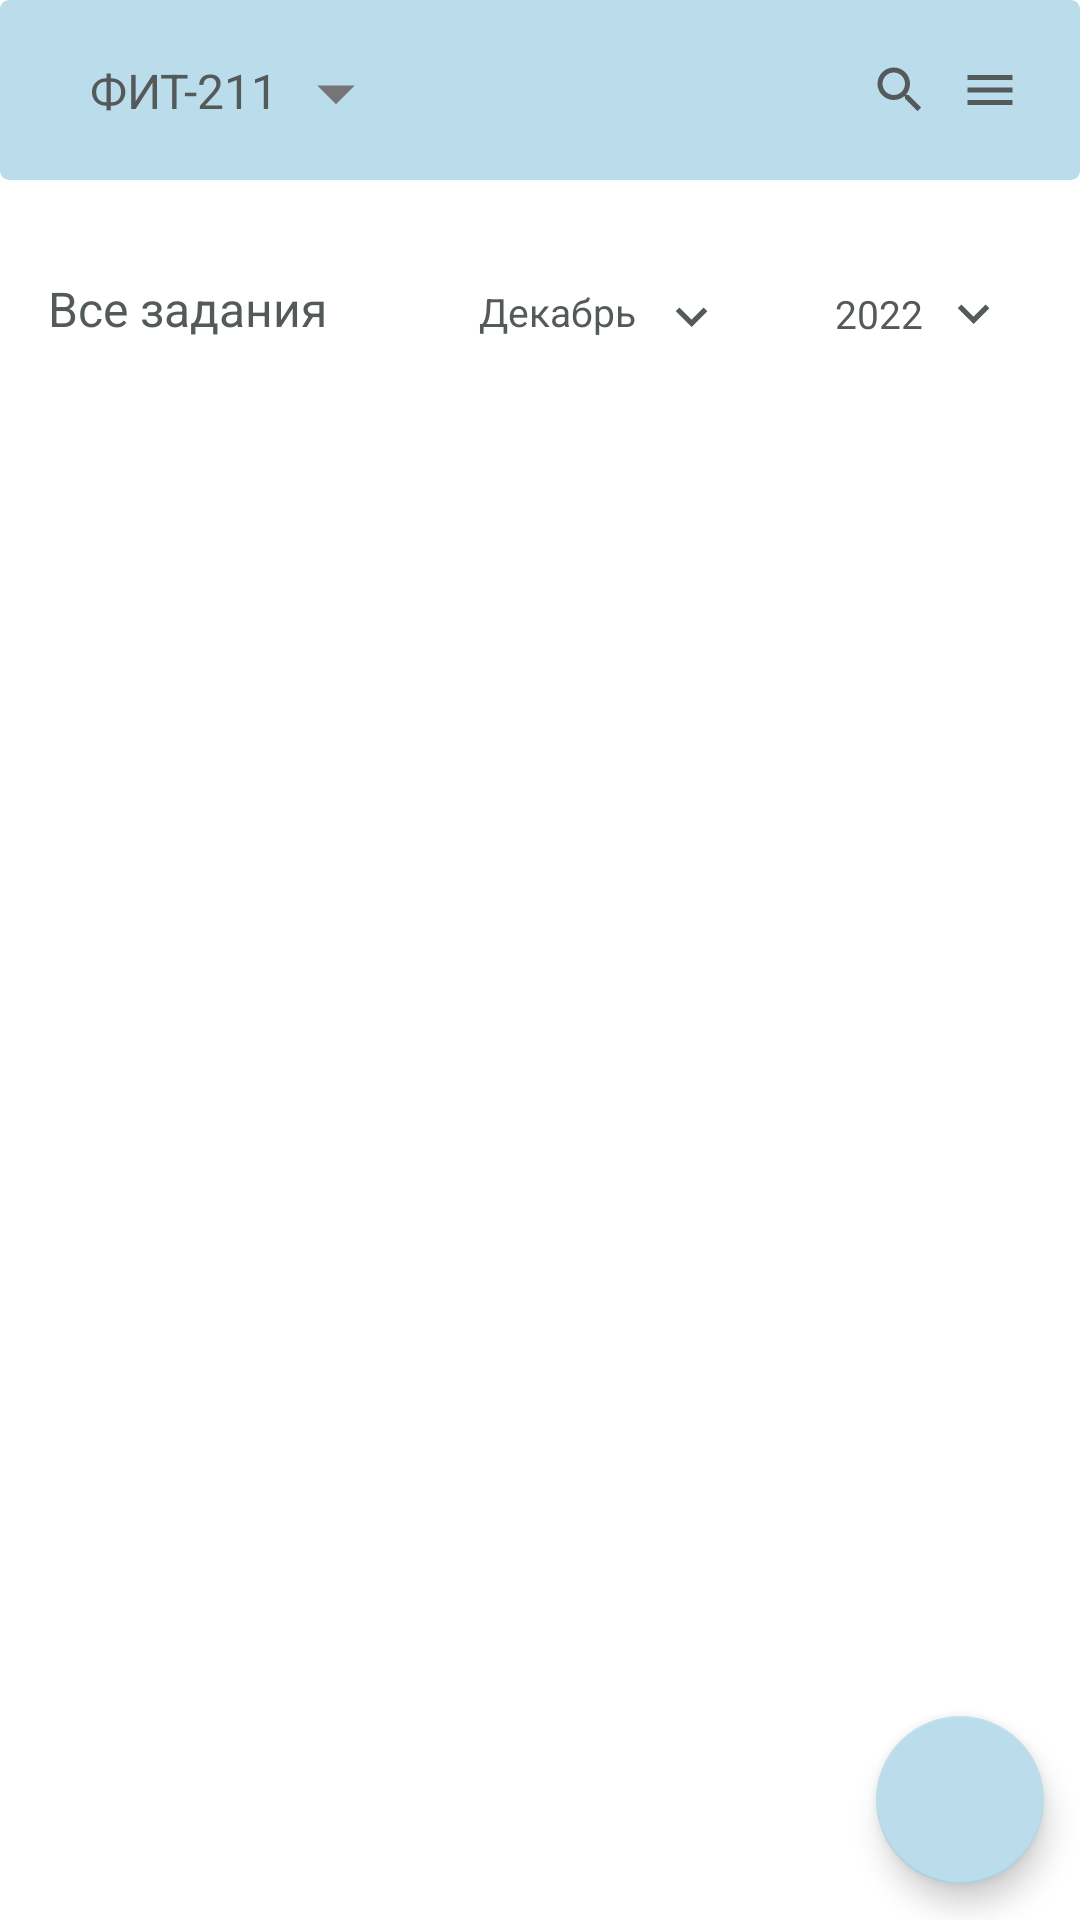

Icon click points for this 1080*1920 phone screenshot, format point (x, y):
menu: point (990, 90)
search: point (899, 89)
